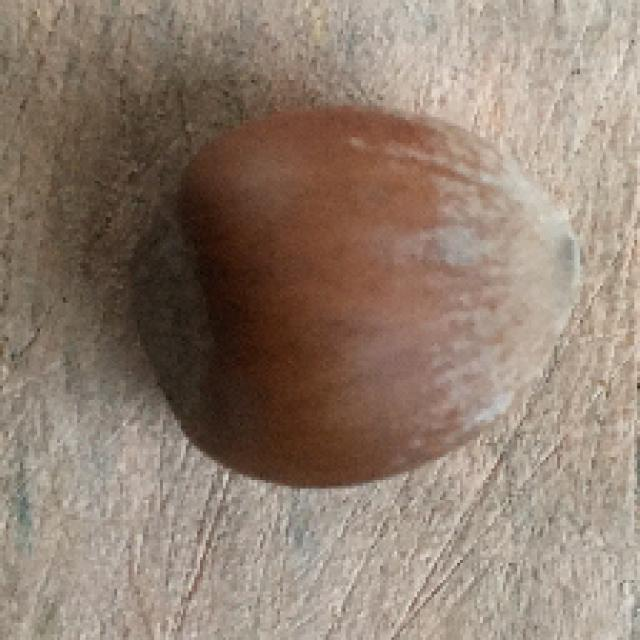damagedHazelnut: (127, 99, 595, 492)
